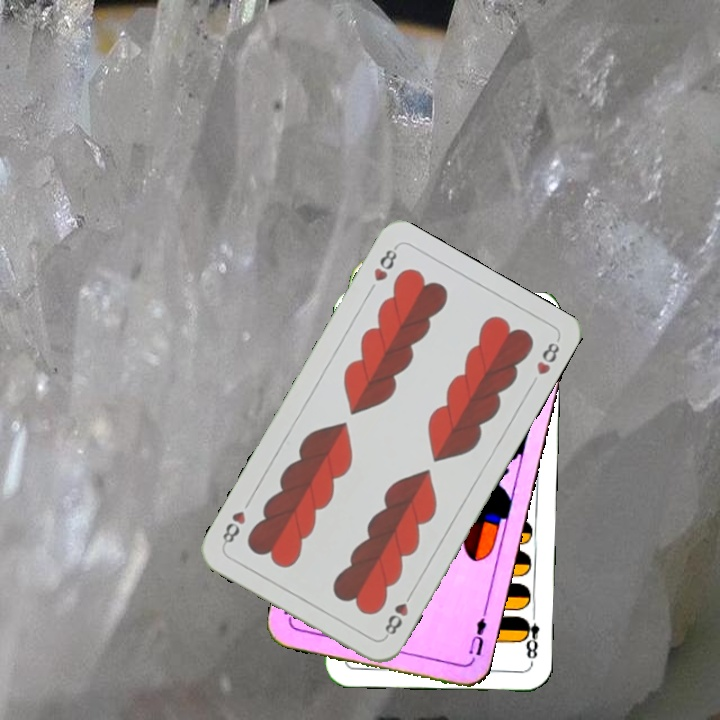E8: (517, 607, 542, 666)
EU: (464, 608, 489, 658)
H8: (380, 587, 416, 641), (369, 243, 400, 284)
